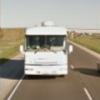buses: (19, 27, 73, 76)
